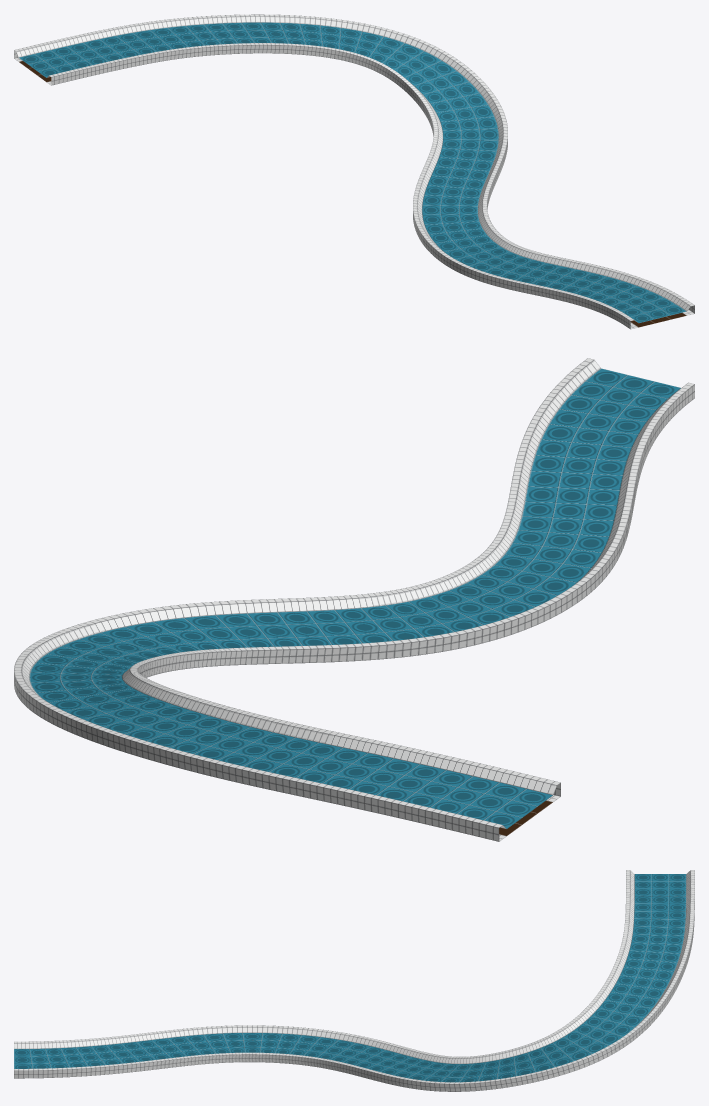
Rendered from MarbleHillCurve.obj.
The picture shows the model from 3 angles, top to bottom: view 1: azimuth 30°, elevation 25°; view 2: azimuth 150°, elevation 25°; view 3: azimuth 270°, elevation 25°; orthographic projection. The views are drawn at different scales.
Parts seen in each view (by area): view 1: Cube_Cube.001; view 2: Cube_Cube.001; view 3: Cube_Cube.001.
Boxes of the visible parts, x1,y1,x2,y2 form: Cube_Cube.001: [14, 14, 694, 329]; Cube_Cube.001: [14, 358, 694, 841]; Cube_Cube.001: [14, 870, 694, 1091].
Size of the model in its own units: 45.68 by 9.93 by 79.
